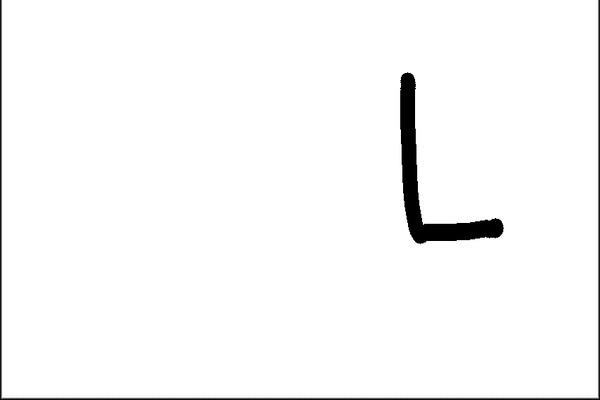L: (388, 62, 509, 250)
